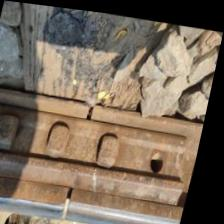person: (50, 177, 99, 224), (78, 93, 111, 124)
